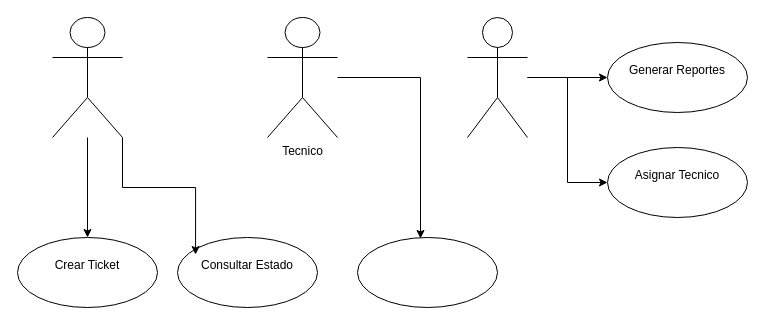
Image size: 765x325. Some labels were removed from this diagram. The centre of each missing label's shape, as x and y in pixels:
"Actualizar Ticket" belongs at point (427, 272).
"Administrador" belongs at point (497, 77).
"UsuarioFinal" belongs at point (87, 77).
